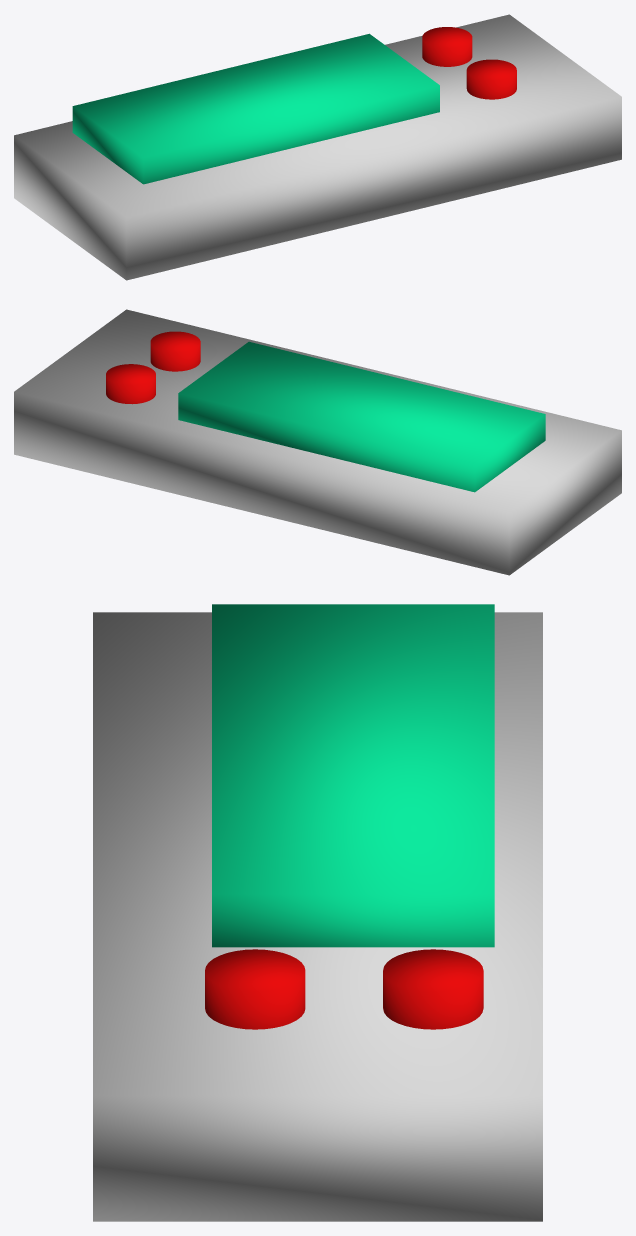
The model's file is Thermometer.fbx.
3 renders of one model, top to bottom at view 1: azimuth 30°, elevation 25°; view 2: azimuth 150°, elevation 25°; view 3: azimuth 270°, elevation 25°, orthographic. The views are drawn at different scales.
Visible parts, largest first — view 1: Cube.001; view 2: Cube.001; view 3: Cube.001.
Boxes of the visible parts, bbox=[...] form: Cube.001: bbox=[14, 14, 621, 280]; Cube.001: bbox=[14, 309, 621, 575]; Cube.001: bbox=[93, 604, 542, 1221].
Size of the model in its own units: 0.019 by 0.00328 by 0.00748.
